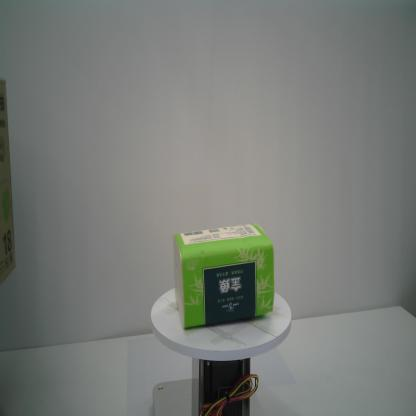Tissue: (171, 219, 276, 331)
